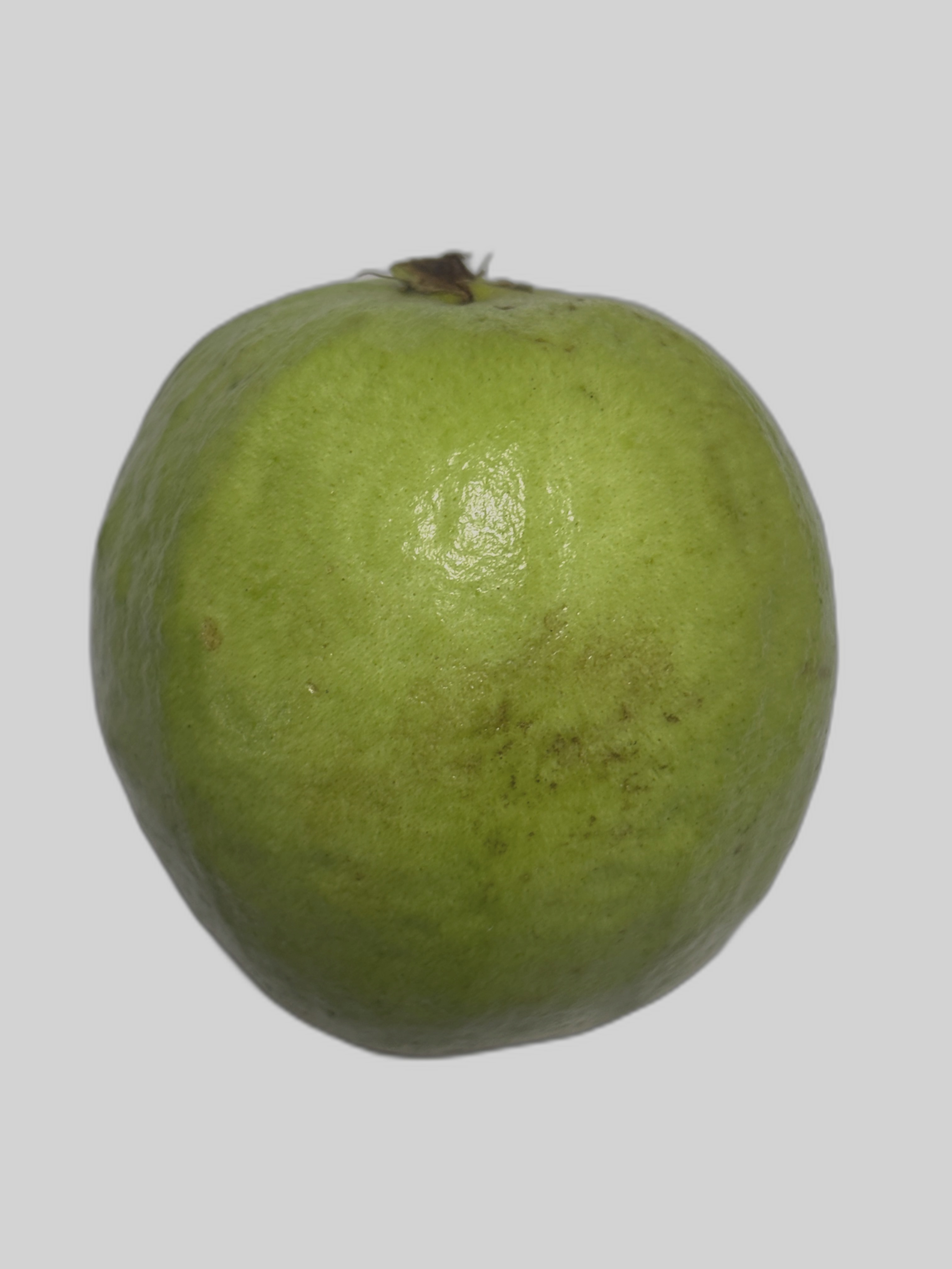guava: (140, 291, 755, 1184)
